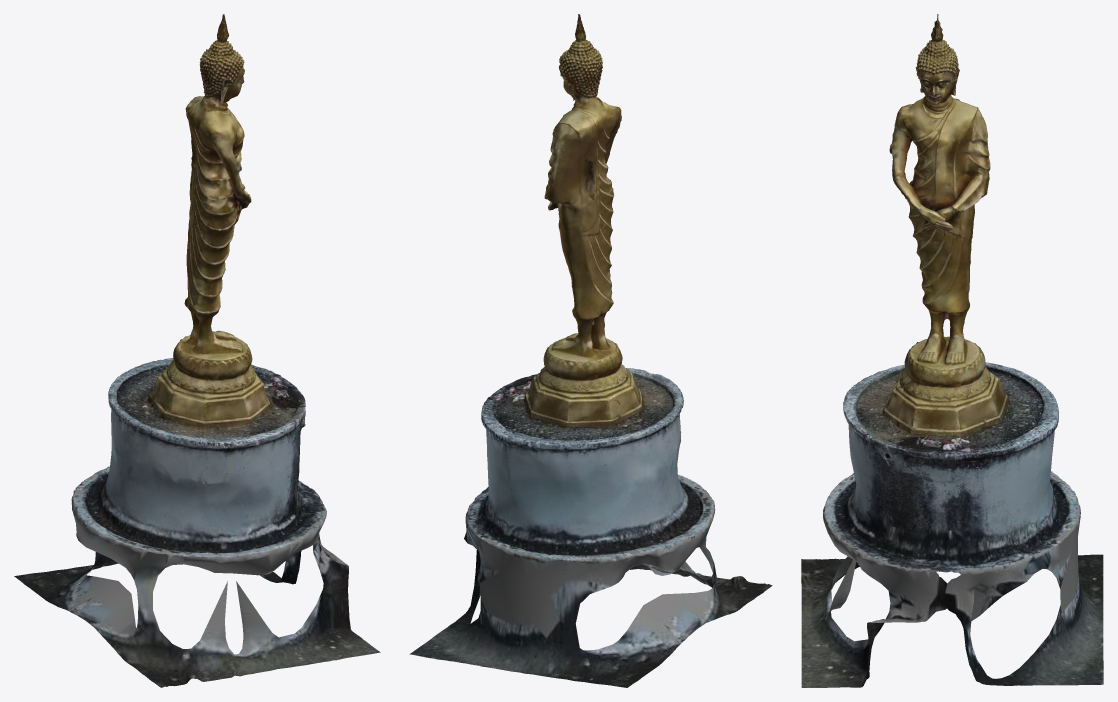
Rendered from phatdung.glb.
The picture shows the model from 3 angles, left to right: view 1: azimuth 30°, elevation 25°; view 2: azimuth 150°, elevation 25°; view 3: azimuth 270°, elevation 25°; orthographic projection. The views are drawn at different scales.
Parts seen in each view (by area): view 1: Object_2; view 2: Object_2; view 3: Object_2.
Boxes of the visible parts, left/top/right/bottom form: Object_2: left=14, top=14, right=380, bottom=687; Object_2: left=409, top=14, right=772, bottom=687; Object_2: left=801, top=14, right=1103, bottom=687.
Bounding box in the file's own units: 1.02 × 2.7 × 1.18.
1 material, 1 textured.
